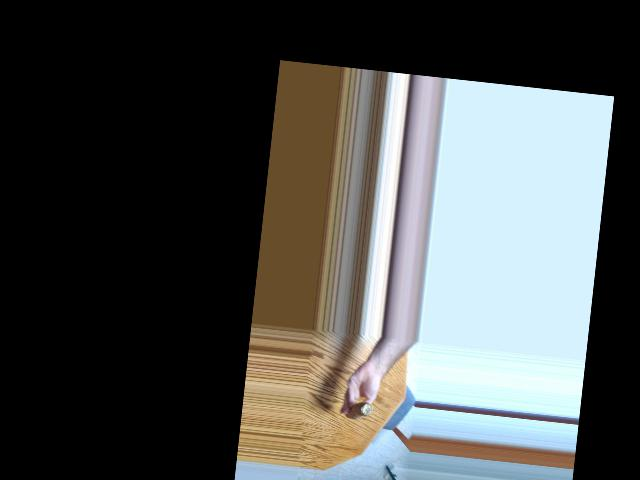sweet_potato: (343, 395, 377, 422)
